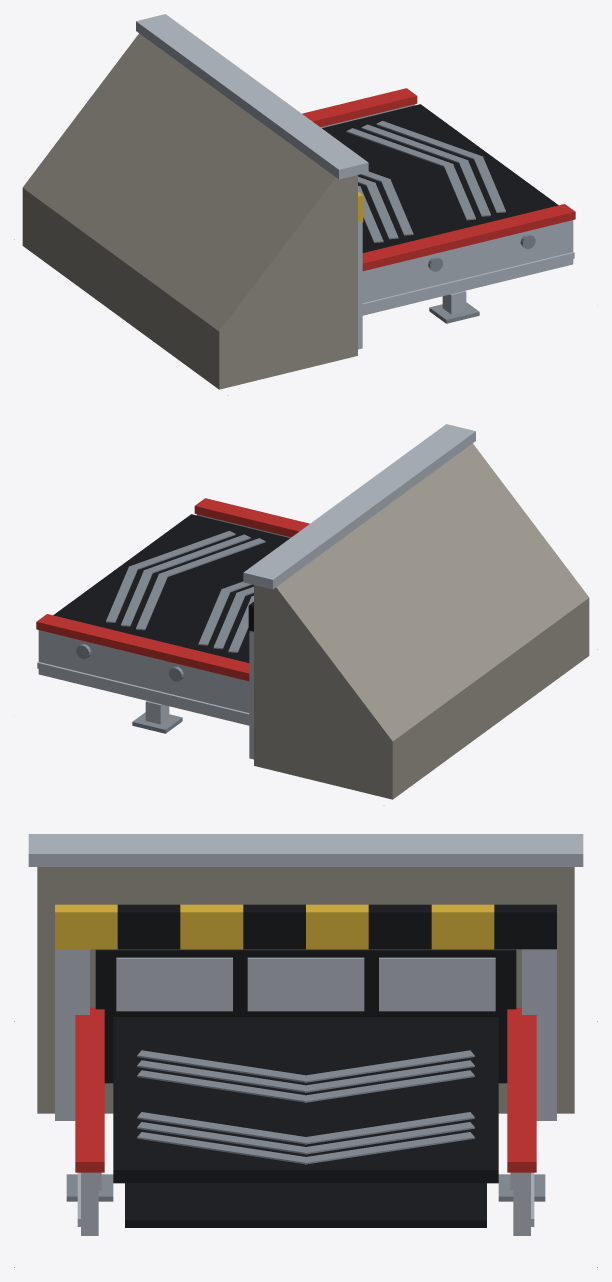
Rendered from convoyeur_tunnel_sortie_t3.glb.
3 renders of one model, top to bottom at view 1: azimuth 30°, elevation 25°; view 2: azimuth 150°, elevation 25°; view 3: azimuth 270°, elevation 25°, orthographic. The views are drawn at different scales.
Parts seen in each view (by area): view 1: bouche.012, pieces_gris_clair.016, pieces_noir.030, pieces_rive_t3.006, bande_acier.048, pieces_acier.054; view 2: bouche.012, pieces_gris_clair.016, pieces_noir.030, pieces_rive_t3.006, bande_acier.048, pieces_acier.054; view 3: pieces_noir.030, pieces_gris_clair.016, bouche.012, bande_acier.048, pieces_jaune.024, pieces_rive_t3.006, pieces_acier.054.
Boxes of the visible parts, bbox=[...] form: bouche.012: bbox=[22, 33, 357, 389]; pieces_gris_clair.016: bbox=[136, 14, 574, 349]; pieces_noir.030: bbox=[322, 104, 558, 252]; pieces_rive_t3.006: bbox=[302, 88, 575, 271]; bande_acier.048: bbox=[346, 121, 505, 242]; pieces_acier.054: bbox=[428, 234, 535, 323]; bouche.012: bbox=[254, 443, 589, 799]; pieces_gris_clair.016: bbox=[37, 424, 475, 759]; pieces_noir.030: bbox=[53, 514, 289, 662]; pieces_rive_t3.006: bbox=[36, 498, 309, 681]; bande_acier.048: bbox=[106, 531, 265, 652]; pieces_acier.054: bbox=[76, 644, 183, 733]; pieces_noir.030: bbox=[95, 904, 556, 1227]; pieces_gris_clair.016: bbox=[28, 834, 583, 1235]; bouche.012: bbox=[37, 867, 574, 1113]; bande_acier.048: bbox=[137, 1050, 474, 1164]; pieces_jaune.024: bbox=[55, 904, 494, 949]; pieces_rive_t3.006: bbox=[75, 1007, 536, 1172]; pieces_acier.054: bbox=[66, 1174, 545, 1201].
Bounding box in the file's own units: 1 × 0.5 × 1.
